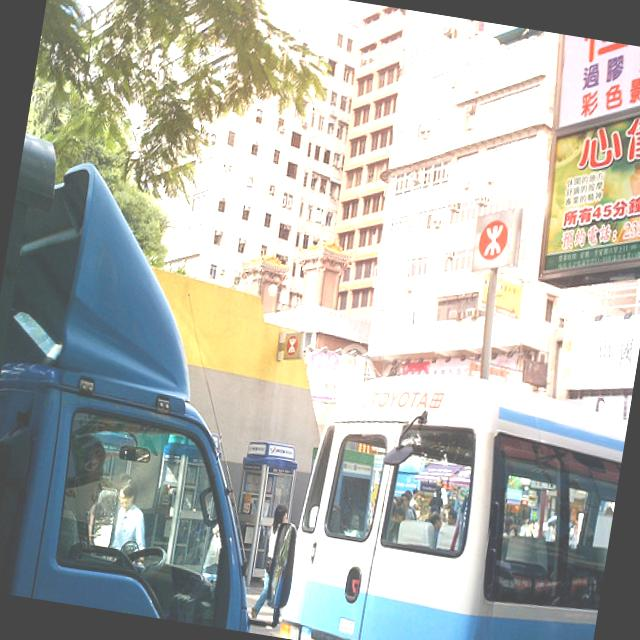Vehicle: (0, 113, 340, 635), (275, 351, 631, 640)
